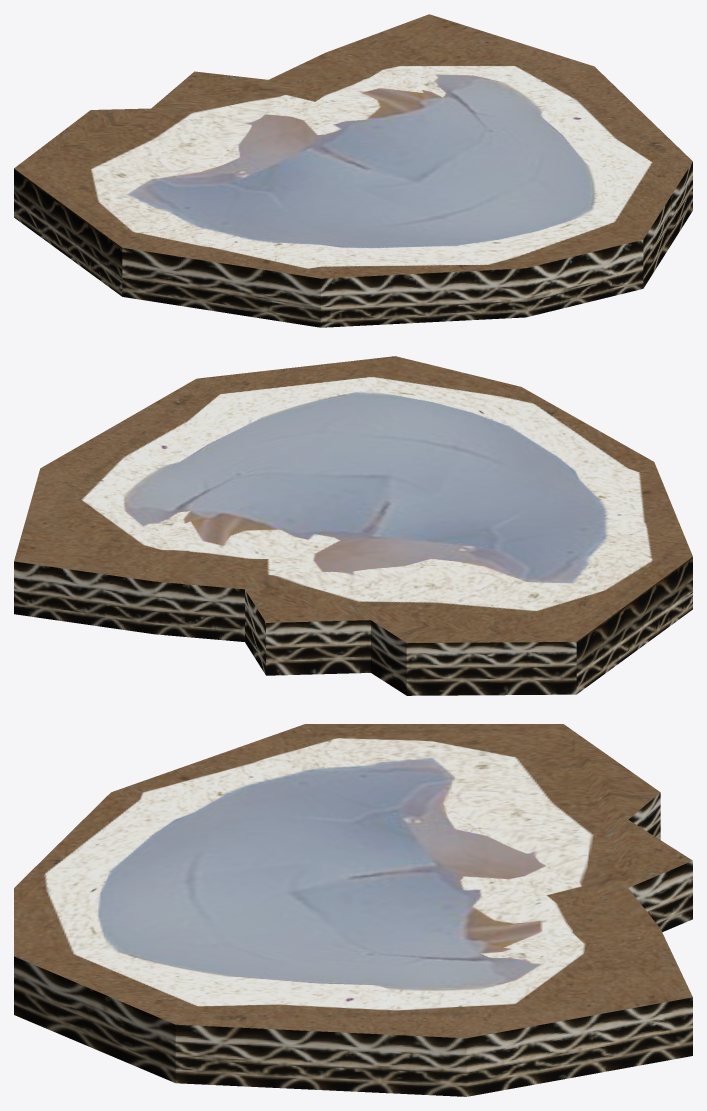
Rendered from CrackedEgg.obj.
3 renders of one model, top to bottom at view 1: azimuth 30°, elevation 25°; view 2: azimuth 150°, elevation 25°; view 3: azimuth 270°, elevation 25°, orthographic. The views are drawn at different scales.
Visible parts, largest first — view 1: Plane; view 2: Plane; view 3: Plane.
Part boxes in pixels (left/top/right/bottom): Plane: left=14, top=14, right=692, bottom=327; Plane: left=14, top=356, right=692, bottom=695; Plane: left=14, top=724, right=692, bottom=1096.
Bounding box in the file's own units: 2.3 × 0.2 × 2.1.
